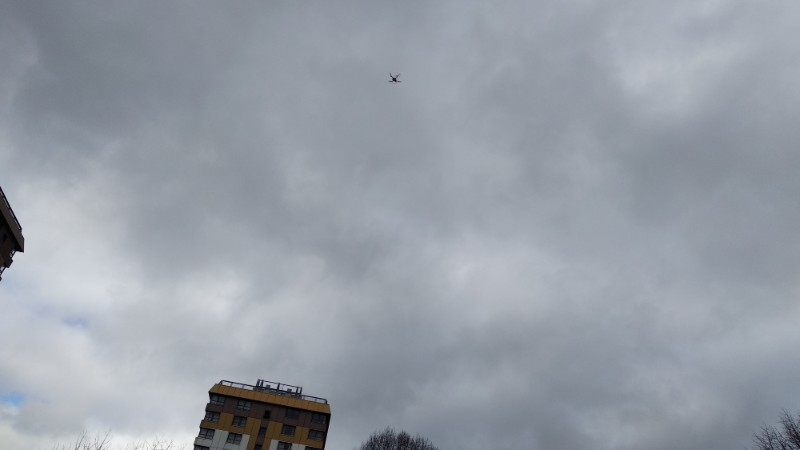drone: (389, 74, 401, 83)
